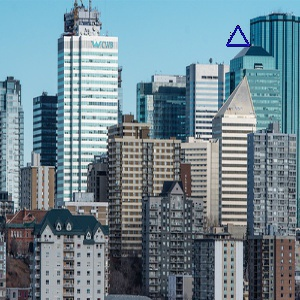triangle: (223, 23, 253, 50)
